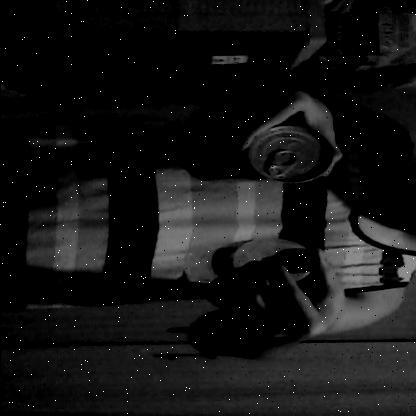Plastic Bottle: (162, 228, 341, 296)
